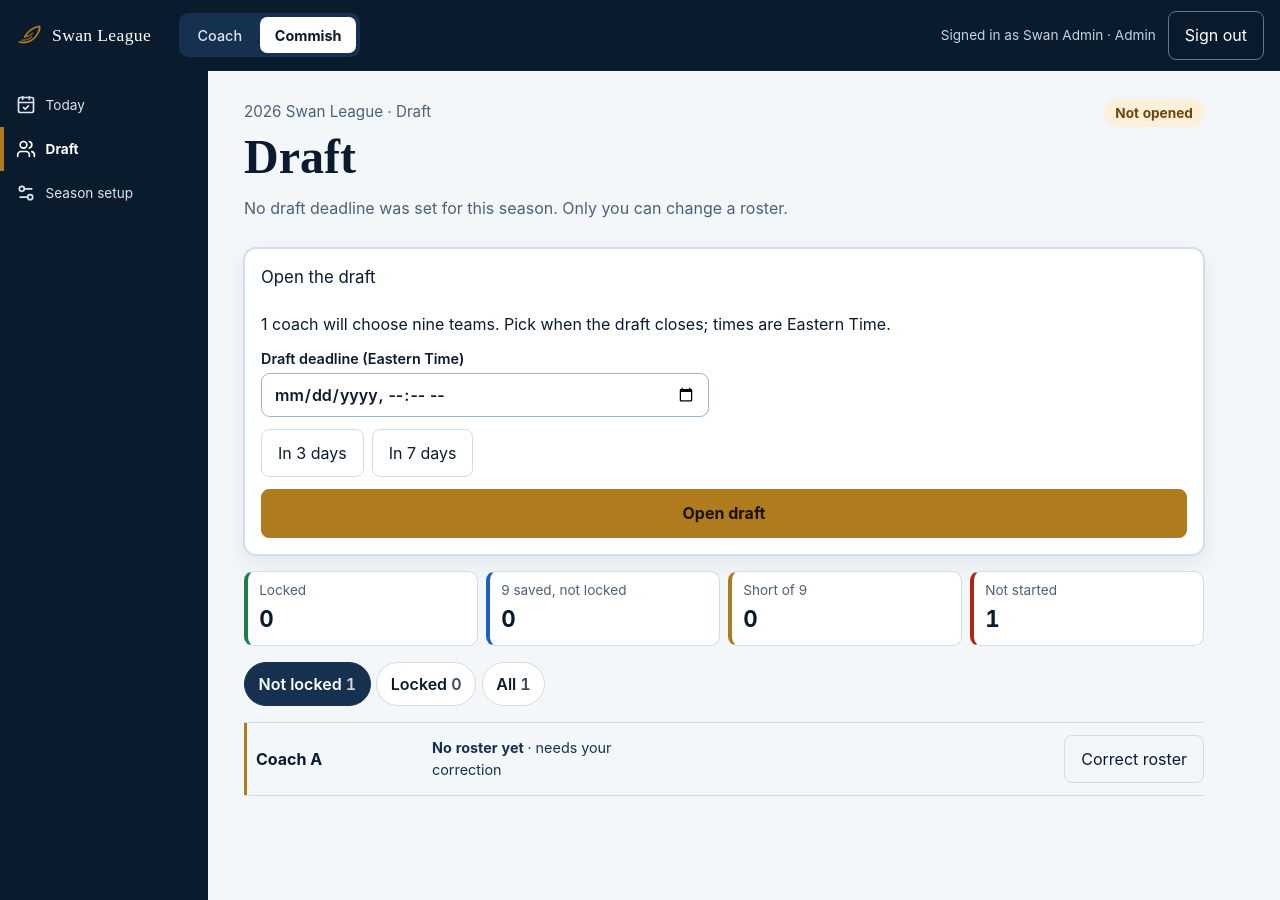
Test: a commissioner can open a draft that was intentionally started later
Expected: the text "No draft deadline was set" is shown, x1=244 y1=198 x2=788 y2=218
Type "2026-10-20T18:00" into the field labelled "Draft deadline (Eastern Time)" at (485, 395), box x1=261 y1=373 x2=709 y2=417
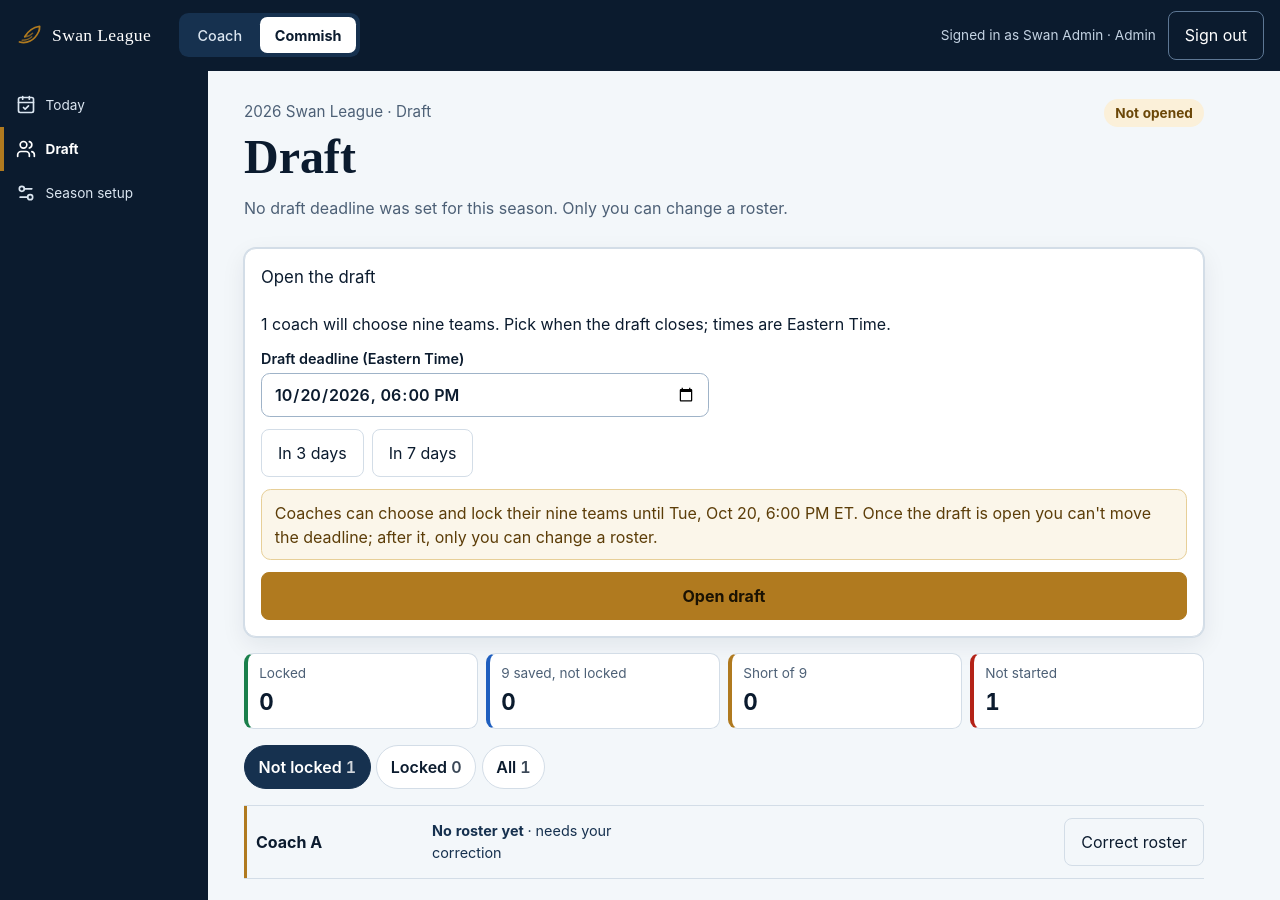
Click the button "Open draft" at (724, 596), box x1=261 y1=572 x2=1187 y2=620
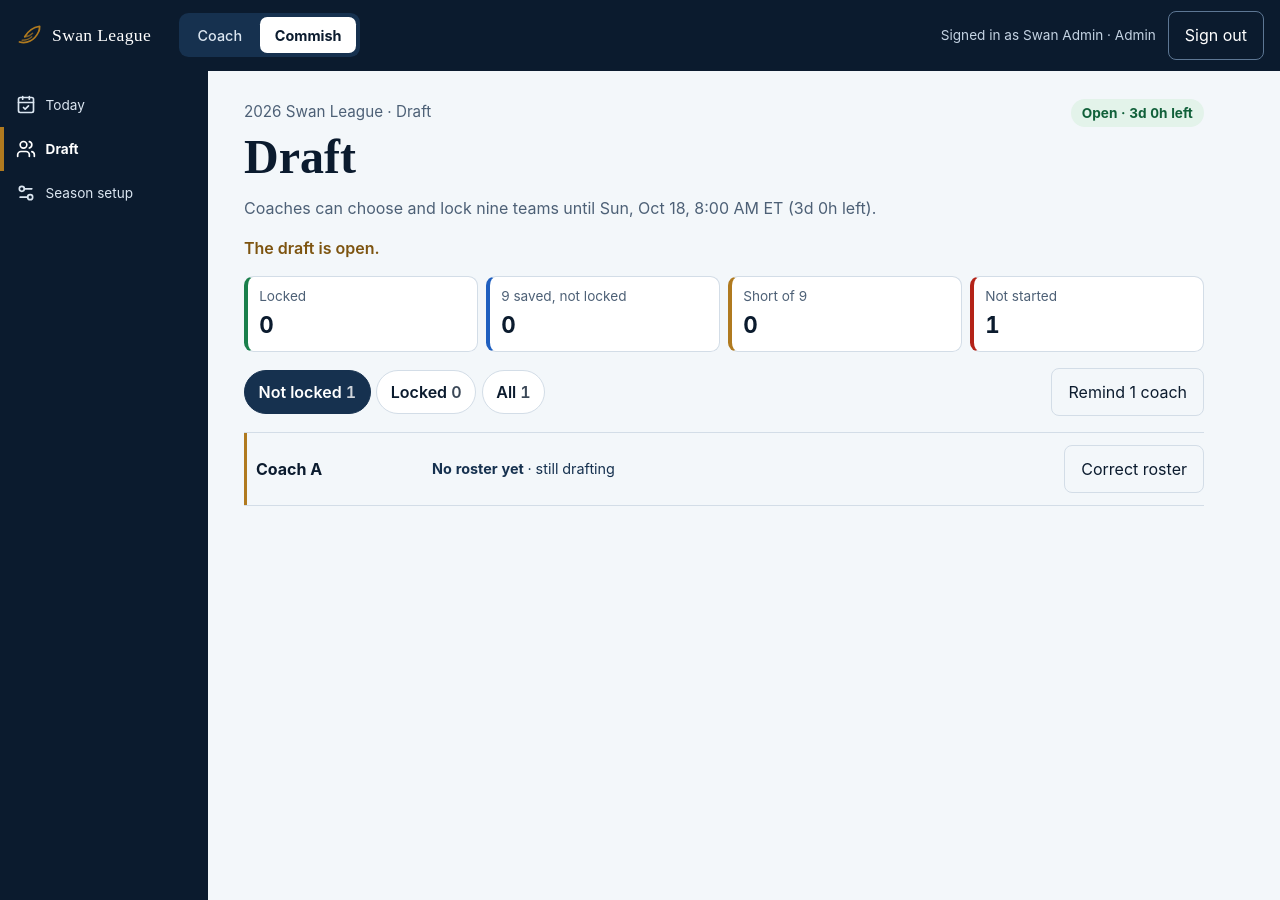
Expected: the text "The draft is open." is shown, x1=244 y1=238 x2=380 y2=258
